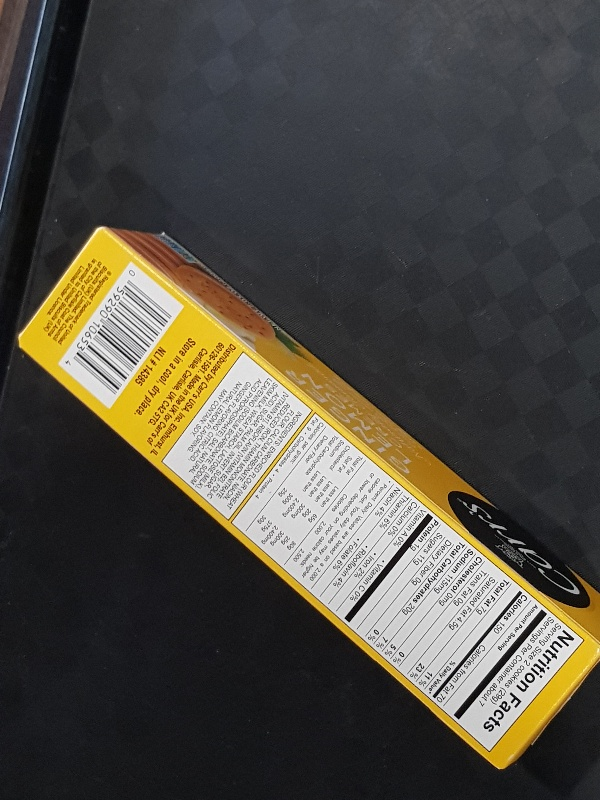Carr's Ginger Lemon Cremes: (12, 221, 600, 773)
